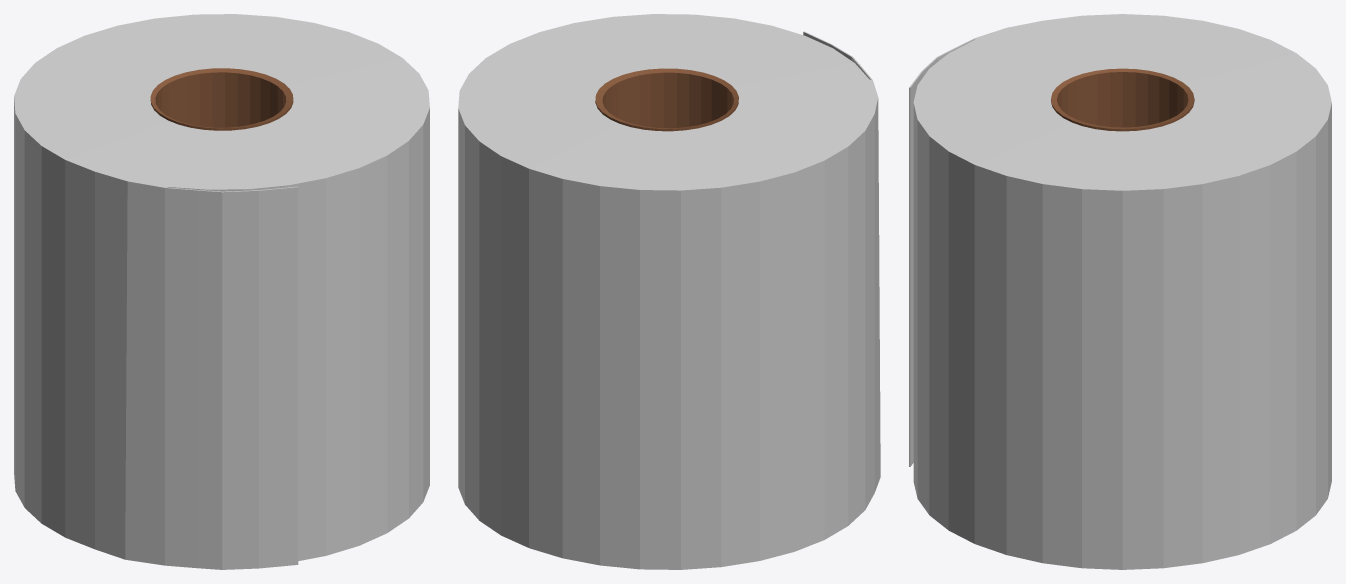
File: toilet_paper.fbx
3 views of the same model, side by side, from view 1: azimuth 30°, elevation 25°; view 2: azimuth 150°, elevation 25°; view 3: azimuth 270°, elevation 25° (orthographic).
Visible parts, largest first — view 1: Cylinder, Cylinder.001; view 2: Cylinder, Cylinder.001; view 3: Cylinder, Cylinder.001.
Part boxes in pixels (x1,y1,x2,y2): Cylinder: (14,14,429,569); Cylinder.001: (150,68,293,130); Cylinder: (458,14,880,569); Cylinder.001: (595,68,738,131); Cylinder: (909,14,1331,569); Cylinder.001: (1051,68,1194,131).
Bounding box in the file's own units: 200 × 204 × 202.
